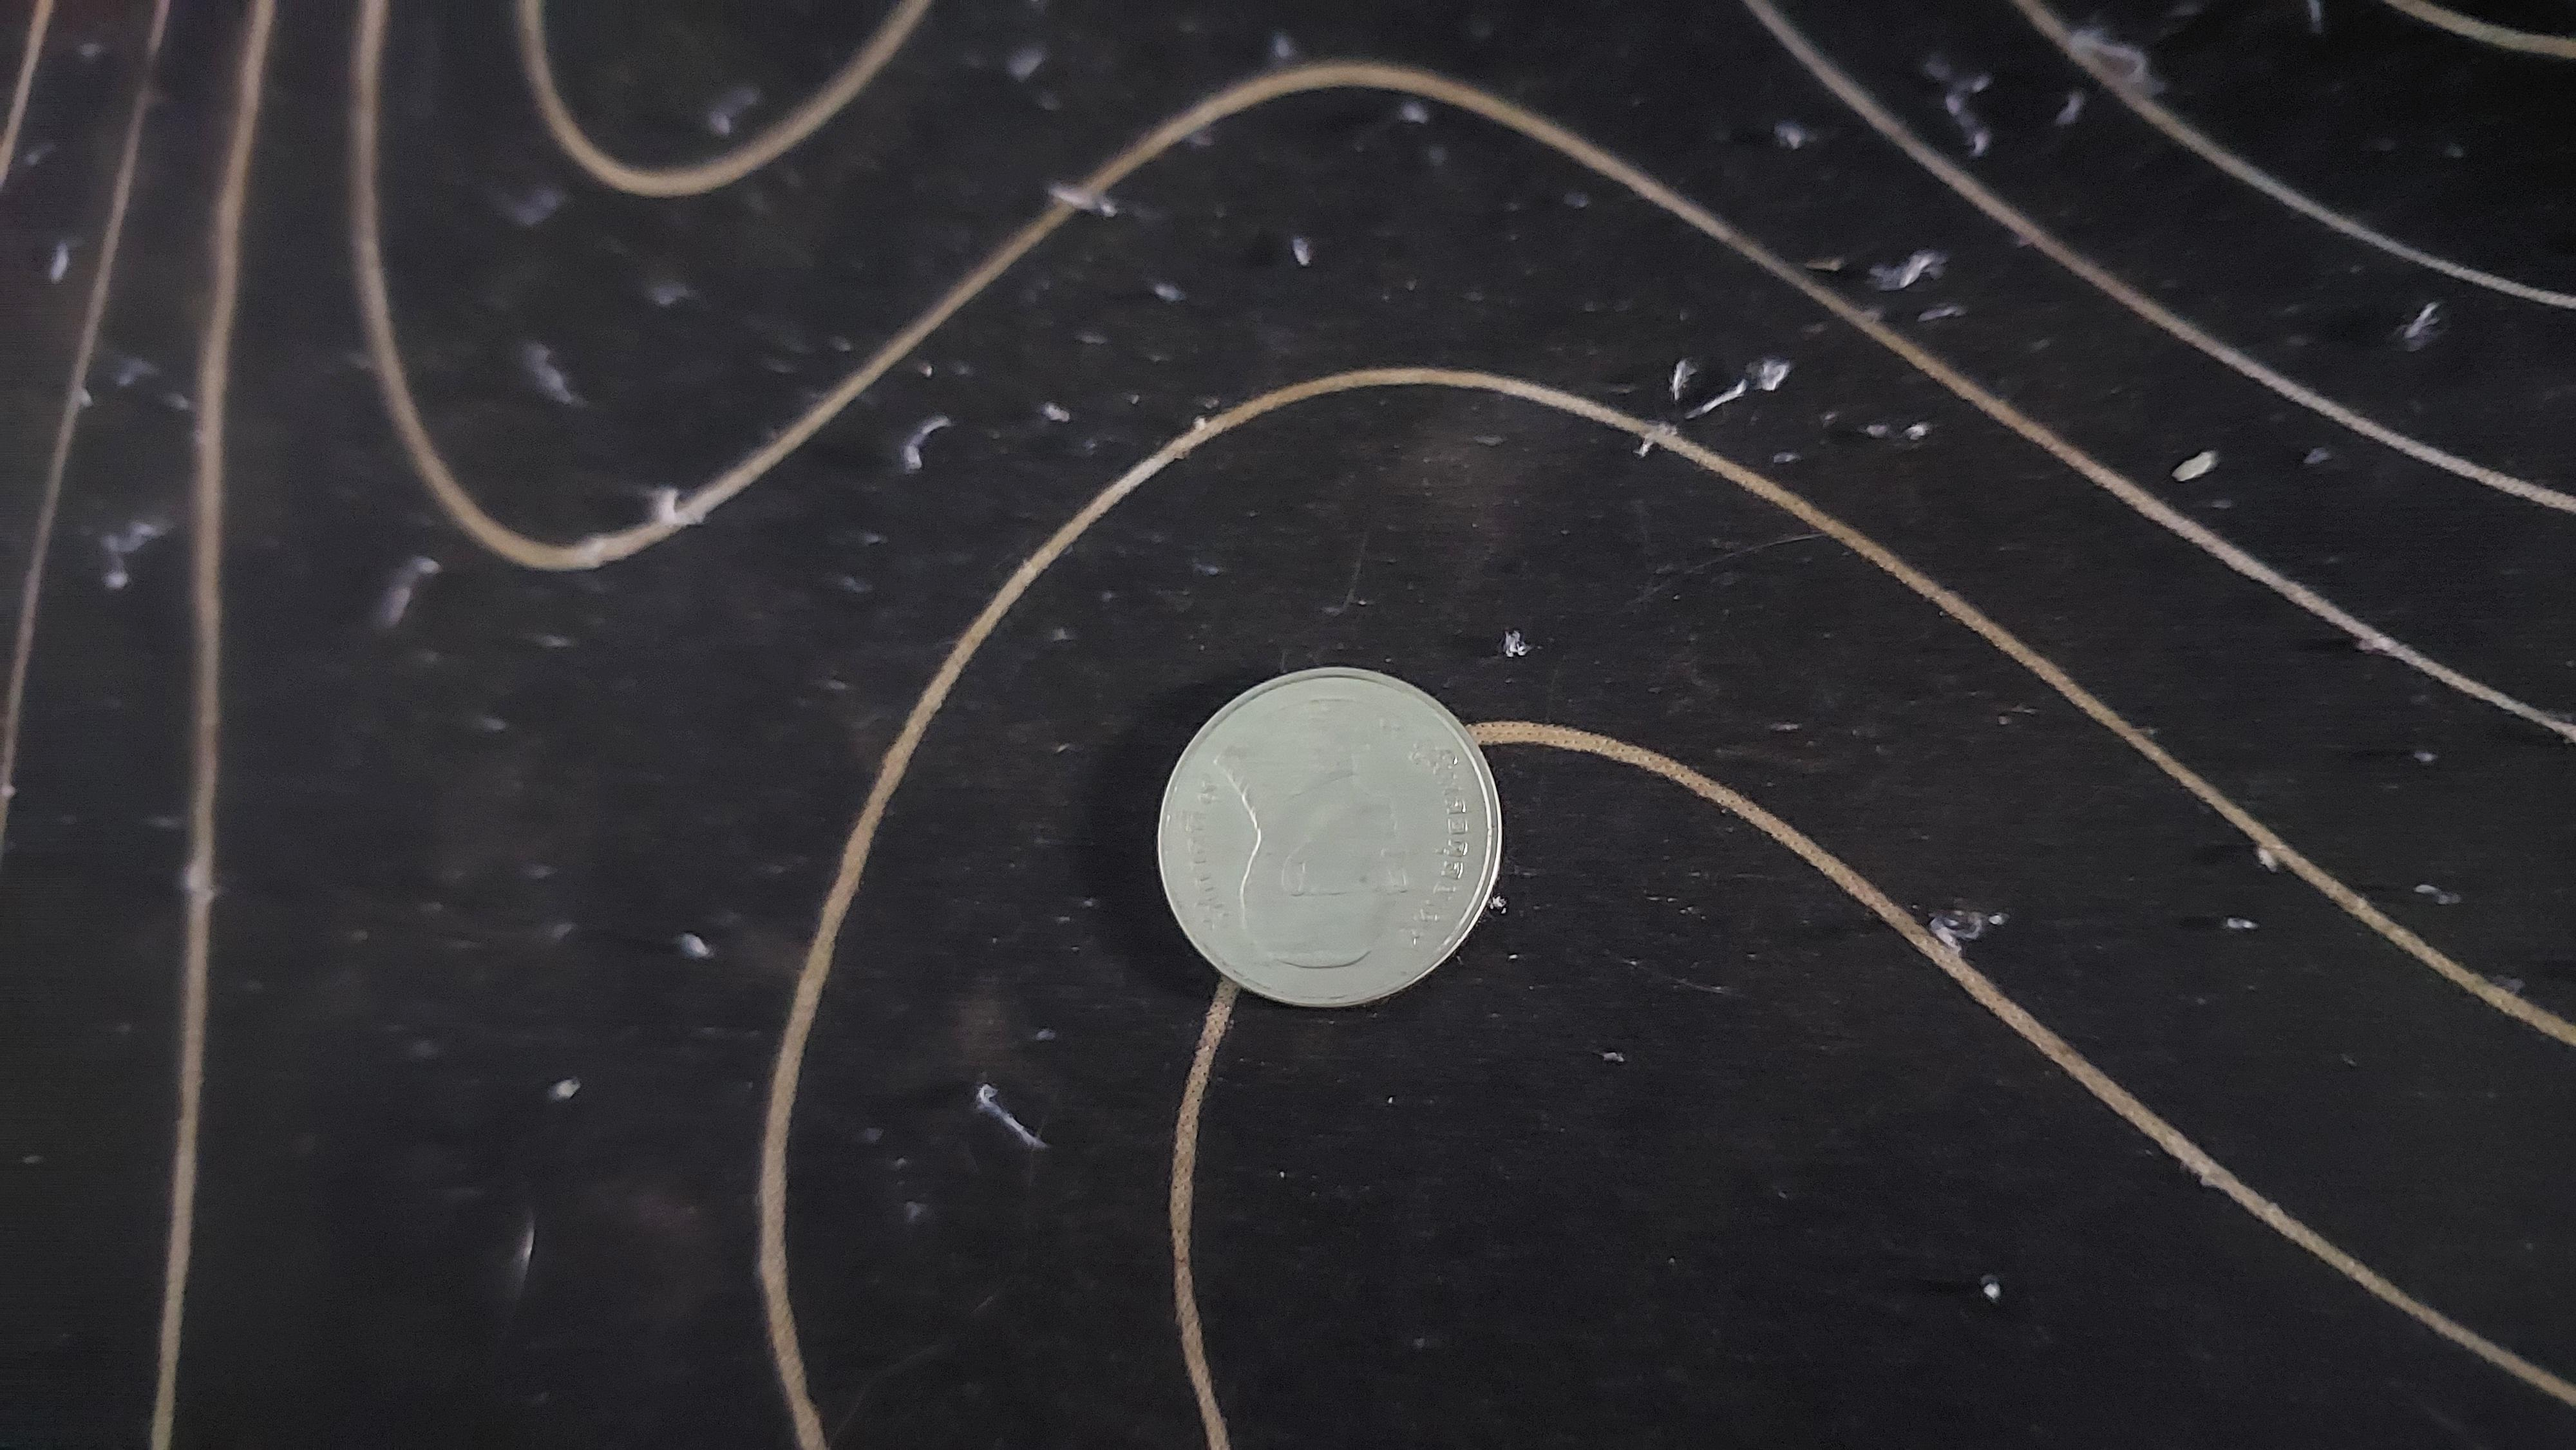5baht: (1134, 645, 1532, 1052)
